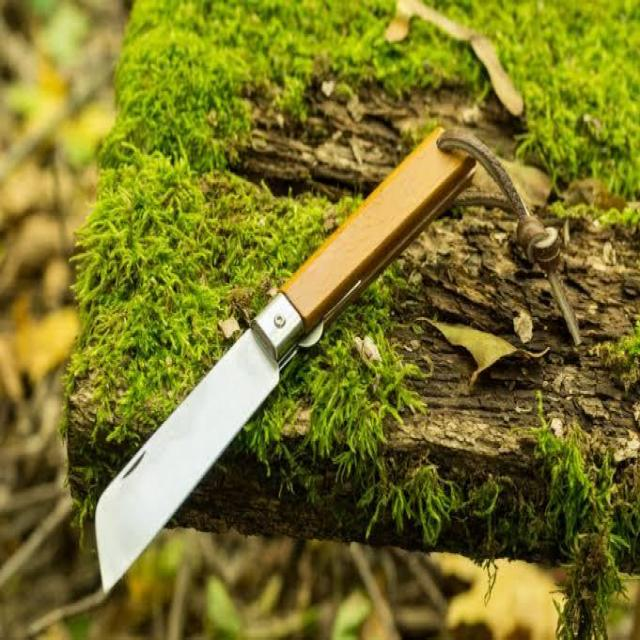knife: (96, 115, 477, 595)
